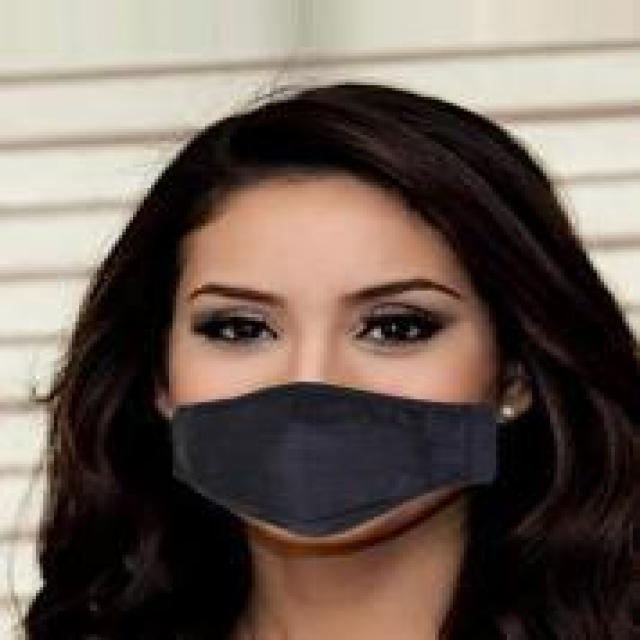mask: (144, 132, 572, 590)
